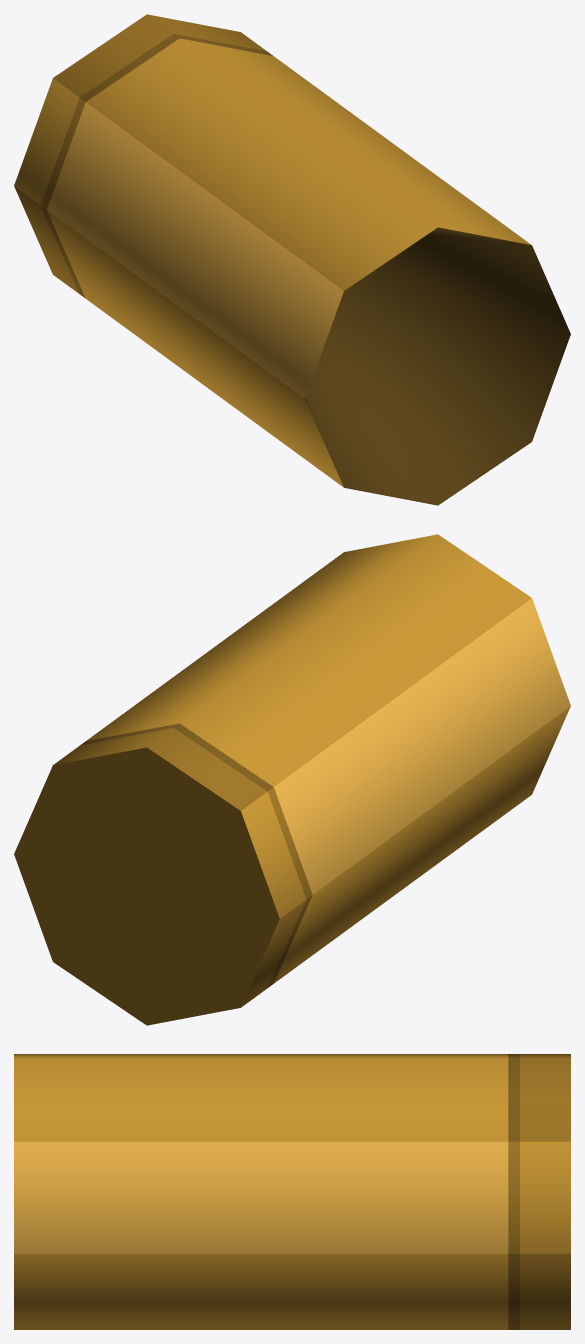
Rendered from Pistol_CartridgeCase_01.fbx.
The picture shows the model from 3 angles, top to bottom: view 1: azimuth 30°, elevation 25°; view 2: azimuth 150°, elevation 25°; view 3: azimuth 270°, elevation 25°; orthographic projection. The views are drawn at different scales.
Visible parts, largest first — view 1: Pistol_CartridgeCase_01; view 2: Pistol_CartridgeCase_01; view 3: Pistol_CartridgeCase_01.
Boxes of the visible parts, x1=… form: Pistol_CartridgeCase_01: x1=14, y1=14, x2=570, y2=505; Pistol_CartridgeCase_01: x1=14, y1=534, x2=570, y2=1025; Pistol_CartridgeCase_01: x1=14, y1=1054, x2=570, y2=1329.
Bounding box in the file's own units: 0.401 × 0.401 × 0.7605.
